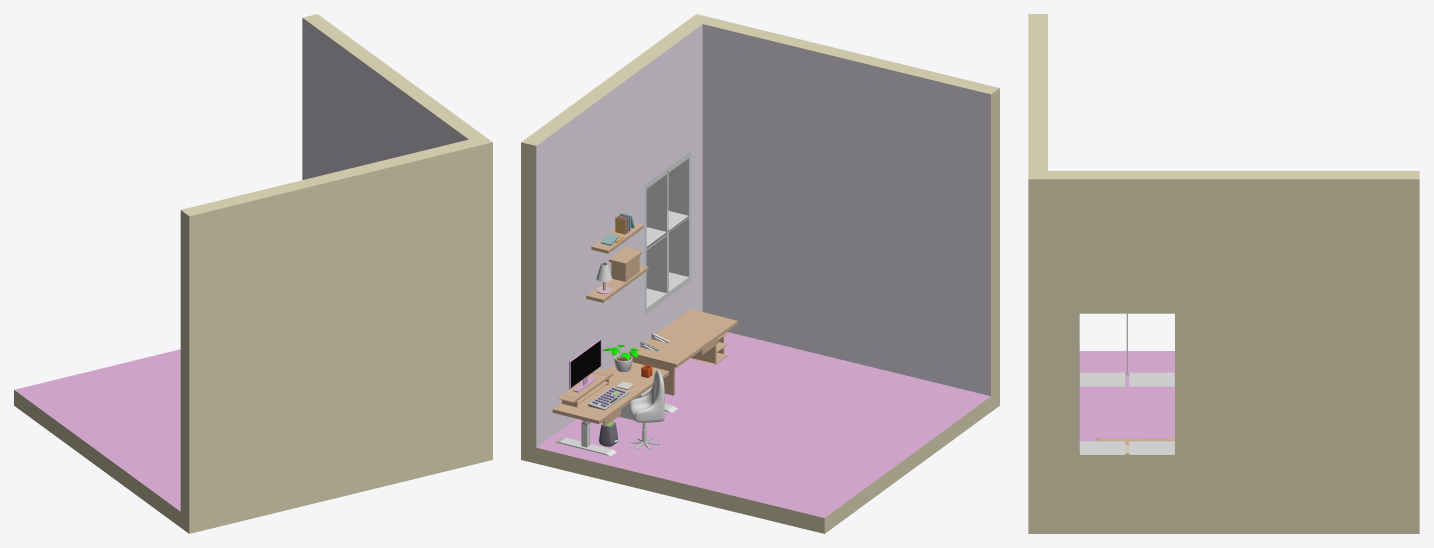
3 views of the same model, side by side, from view 1: azimuth 30°, elevation 25°; view 2: azimuth 150°, elevation 25°; view 3: azimuth 270°, elevation 25° (orthographic). The views are drawn at different scales.
Parts seen in each view (by area): view 1: wrap; view 2: wrap, window, Table Top.014, Table Top, Lập Phương.007, BookShelf.002, GiaDo, screen, BookShelf; view 3: wrap, window.
Part boxes in pixels (left/top/right/bottom): wrap: left=14, top=14, right=492, bottom=533; wrap: left=521, top=14, right=999, bottom=533; window: left=644, top=151, right=690, bottom=314; Table Top.014: left=630, top=309, right=737, bottom=367; Table Top: left=552, top=362, right=668, bottom=424; Lập Phương.007: left=629, top=370, right=664, bottom=422; BookShelf.002: left=609, top=247, right=641, bottom=281; GiaDo: left=558, top=369, right=613, bottom=407; screen: left=571, top=341, right=600, bottom=387; BookShelf: left=586, top=264, right=648, bottom=302; wrap: left=1028, top=14, right=1419, bottom=533; window: left=1079, top=313, right=1174, bottom=454.
Bounding box in the file's own units: 36.91 × 35.79 × 35.79.
